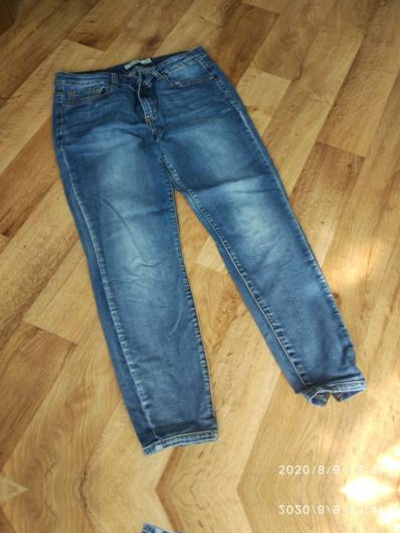Pants: (32, 26, 368, 436)
